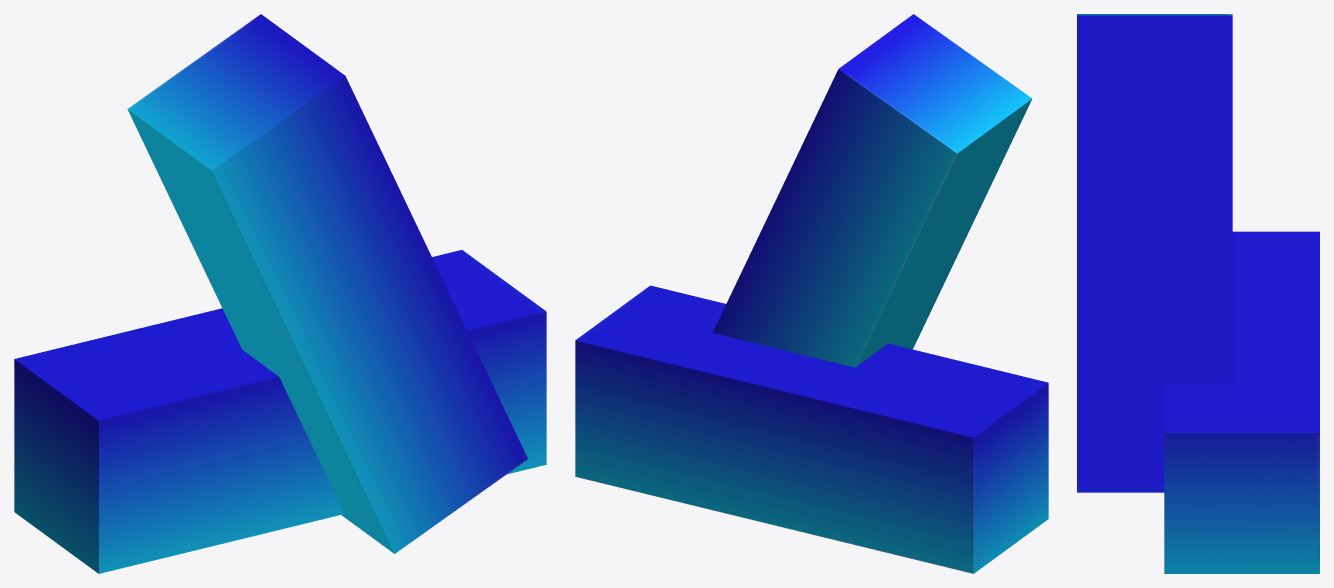
Rendered from boxes.obj.
3 renders of one model, left to right at view 1: azimuth 30°, elevation 25°; view 2: azimuth 150°, elevation 25°; view 3: azimuth 270°, elevation 25°, orthographic. The views are drawn at different scales.
Parts seen in each view (by area): view 1: cube_text2_pCube2, cube_text2_pCube1; view 2: cube_text2_pCube1, cube_text2_pCube2; view 3: cube_text2_pCube2, cube_text2_pCube1.
Boxes of the visible parts, x1,y1,x2,y2 form: cube_text2_pCube2: (127,14,527,553); cube_text2_pCube1: (14,250,546,573); cube_text2_pCube1: (575,285,1048,573); cube_text2_pCube2: (712,14,1032,367); cube_text2_pCube2: (1077,14,1232,492); cube_text2_pCube1: (1164,231,1319,573).
Bounding box in the file's own units: 3.06 × 3.2 × 1.56.
2 materials, 2 textured.
